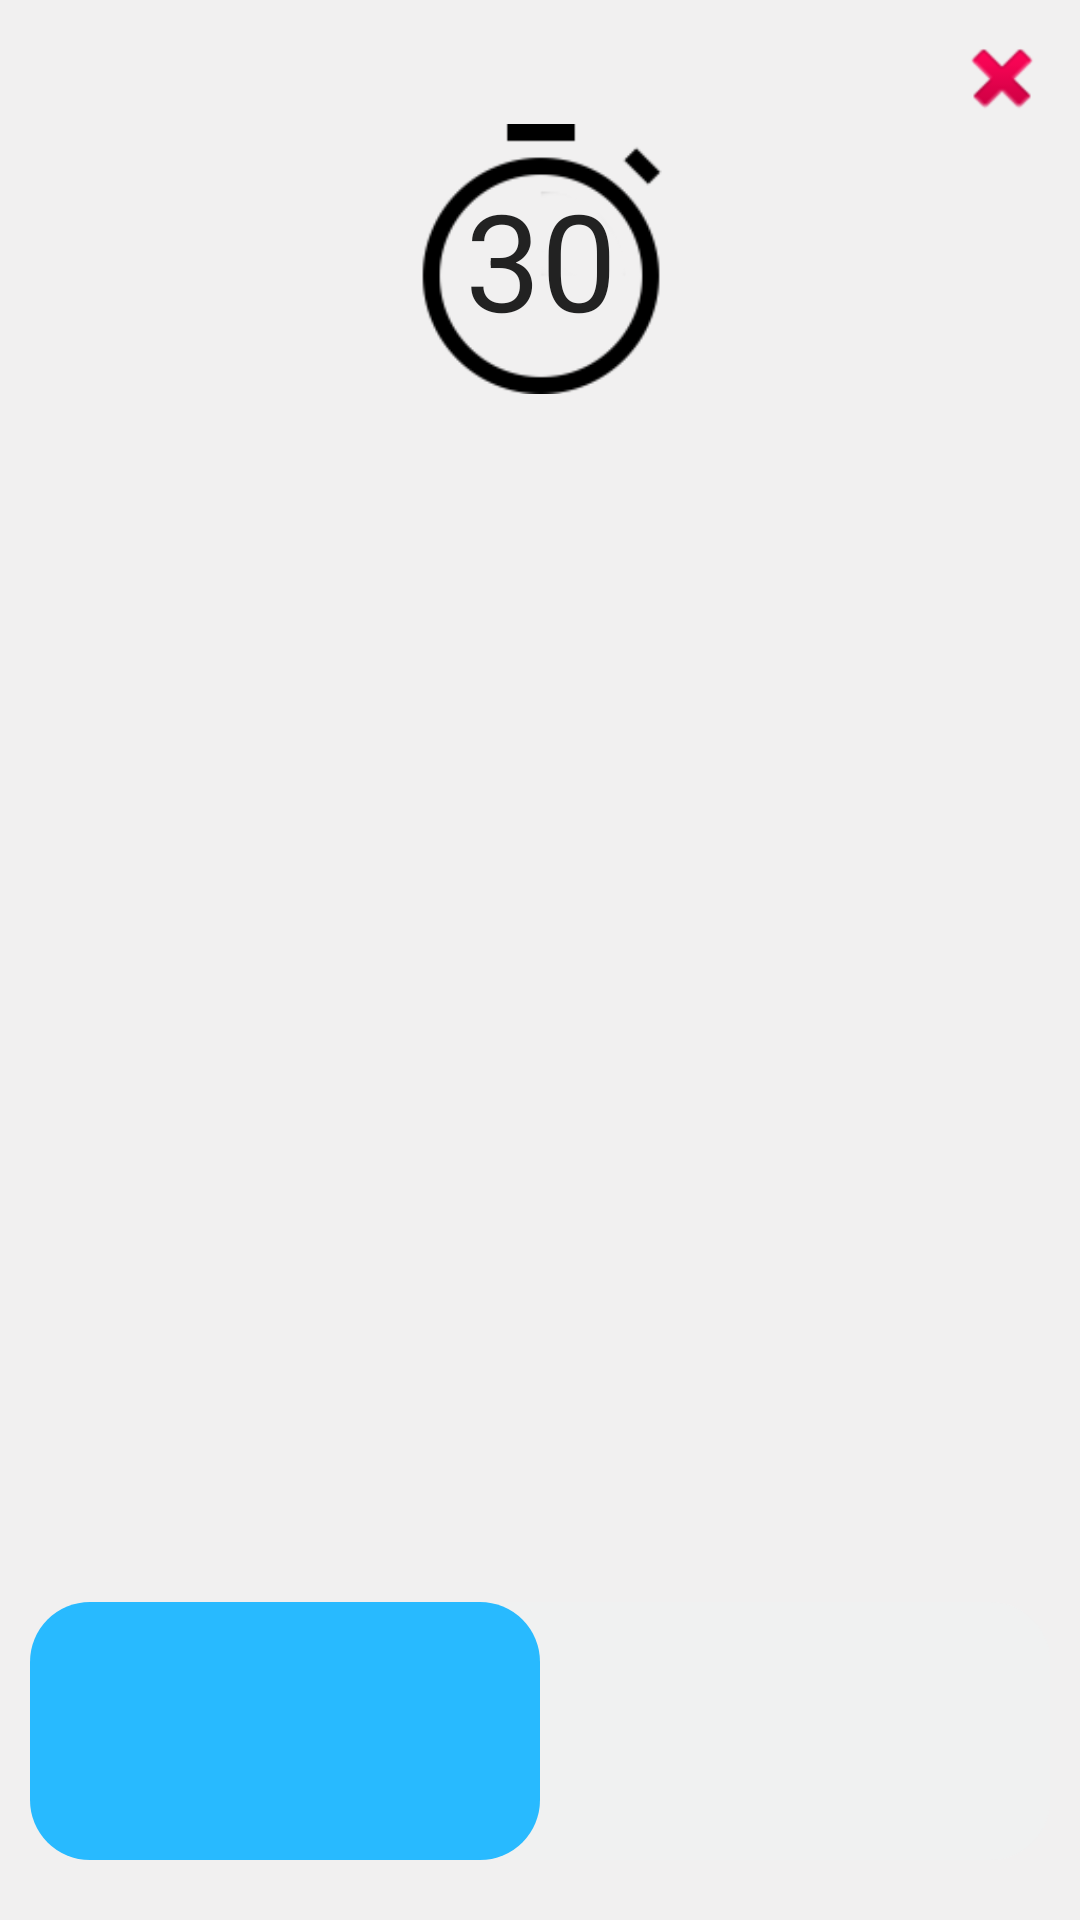

Named icons in this screenshot (1080 × 1920) and their bounding boxes, (x1, y1, x2, y2):
delete: (971, 49, 1033, 108)
